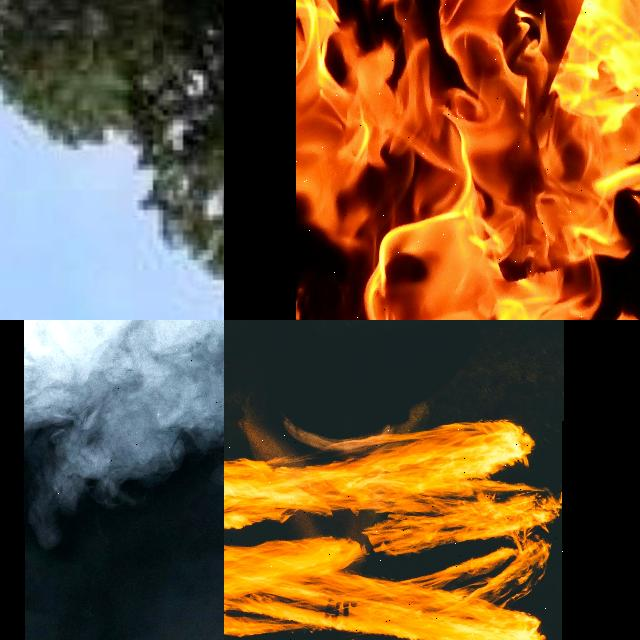fire: (296, 0, 640, 320), (224, 421, 563, 640)
smoke: (25, 320, 224, 524)
